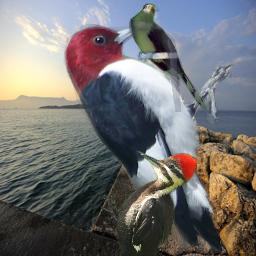Cuckoo: (129, 3, 213, 112)
Woodpecker: (63, 21, 241, 253), (101, 151, 197, 256)
